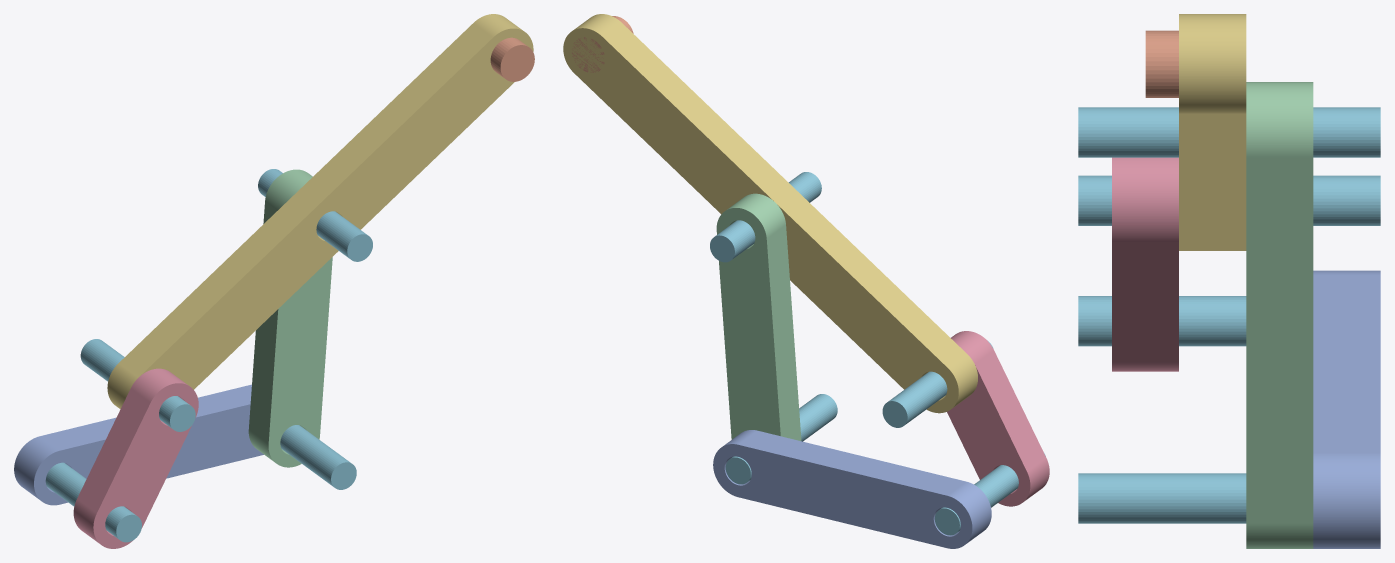
File: four_bar_demo.glb
The picture shows the model from 3 angles, left to right: view 1: azimuth 30°, elevation 25°; view 2: azimuth 150°, elevation 25°; view 3: azimuth 270°, elevation 25°; orthographic projection. The views are drawn at different scales.
Parts seen in each view (by area): view 1: coupler, rocker, crank, ground_link, pin_1, pin_3, pin_0, pin_2, trace_point; view 2: coupler, ground_link, rocker, crank, pin_2, pin_3, pin_1, pin_0; view 3: rocker, ground_link, coupler, crank, pin_1, pin_3, pin_2, pin_0, trace_point.
Boxes of the visible parts, x1,y1,x2,y2 form: coupler: (107, 14, 533, 408); rocker: (248, 169, 332, 467); crank: (73, 368, 198, 548); ground_link: (14, 384, 263, 505); pin_1: (280, 425, 356, 489); pin_3: (258, 169, 372, 261); pin_0: (45, 462, 141, 542); pin_2: (80, 339, 195, 431); trace_point: (490, 37, 534, 81); coupler: (563, 14, 977, 413); ground_link: (713, 430, 991, 548); rocker: (716, 193, 801, 440); crank: (947, 331, 1049, 506); pin_2: (882, 340, 993, 427); pin_3: (710, 172, 821, 262); pin_1: (725, 394, 837, 484); pin_0: (934, 453, 1045, 535); rocker: (1246, 82, 1313, 548); ground_link: (1313, 270, 1380, 548); coupler: (1179, 14, 1246, 250); crank: (1112, 157, 1178, 371); pin_1: (1078, 473, 1246, 523); pin_3: (1078, 107, 1380, 157); pin_2: (1078, 175, 1380, 225); pin_0: (1078, 296, 1246, 346); trace_point: (1145, 30, 1178, 97).
Size of the model in its own units: 53.53 by 45.03 by 18.
